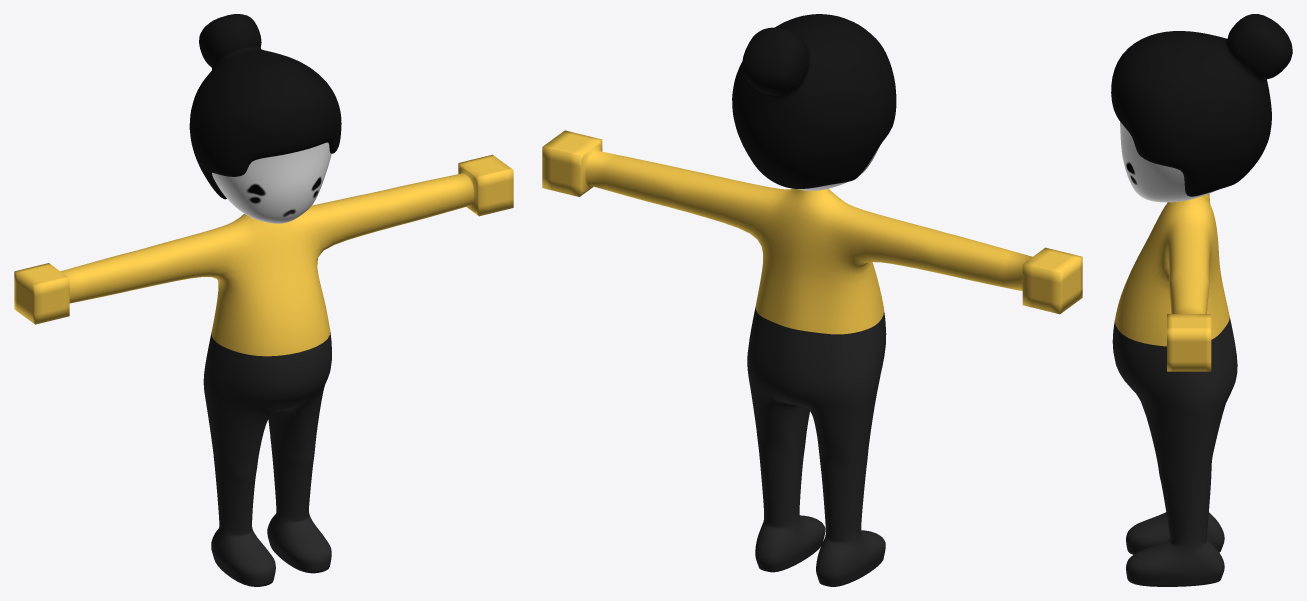
The model's file is MiiGradel.fbx.
3 views of the same model, side by side, from view 1: azimuth 30°, elevation 25°; view 2: azimuth 150°, elevation 25°; view 3: azimuth 270°, elevation 25° (orthographic). The views are drawn at different scales.
Parts seen in each view (by area): view 1: Teuté.002; view 2: Teuté.002; view 3: Teuté.002.
Boxes of the visible parts, box(x1,y1,x2,y2) form: Teuté.002: box(14, 14, 513, 586); Teuté.002: box(542, 14, 1082, 586); Teuté.002: box(1111, 14, 1292, 586).
Size of the model in its own units: 188 by 195 by 58.74.
